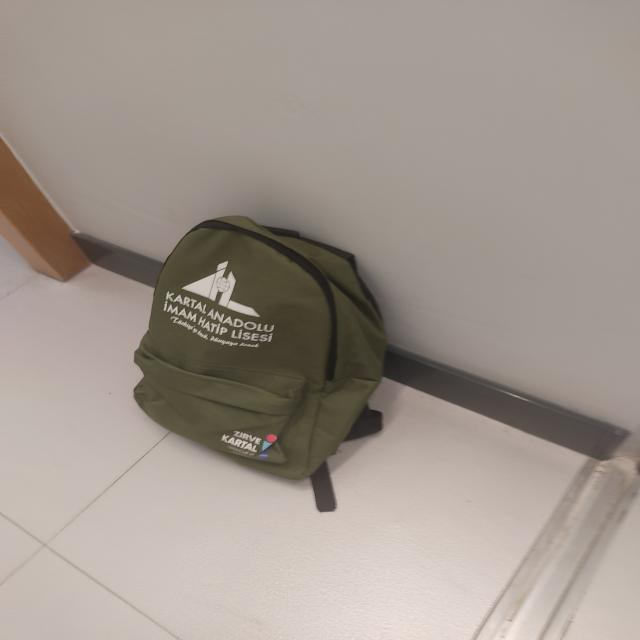bag: (144, 208, 385, 478)
